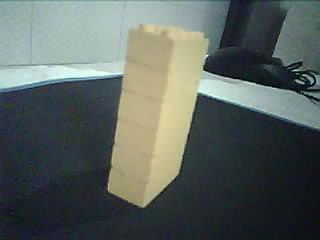lego: (106, 22, 208, 209)
